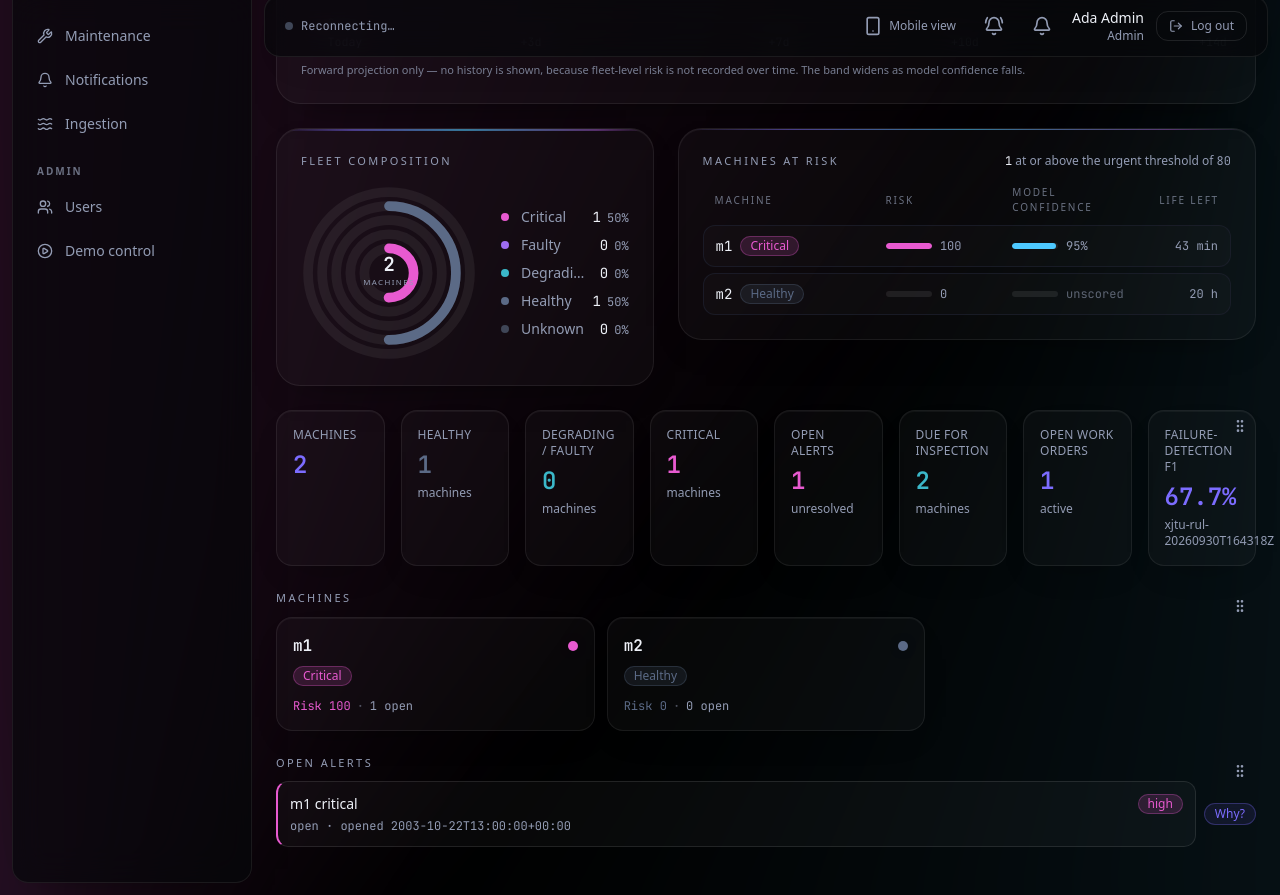
App › renders the dashboard for an authenticated admin and opens machine detail
(page scrolled)
Expected: the element named "kpi" is shown, [276,410,1256,566]
Expected: the text "Ada Admin" is shown, [1072,8,1144,28]
Step 1. Click the button "m1 Critical Risk 100 · 1 open" → (322,676), box [276,617,595,731]
(page scrolled)
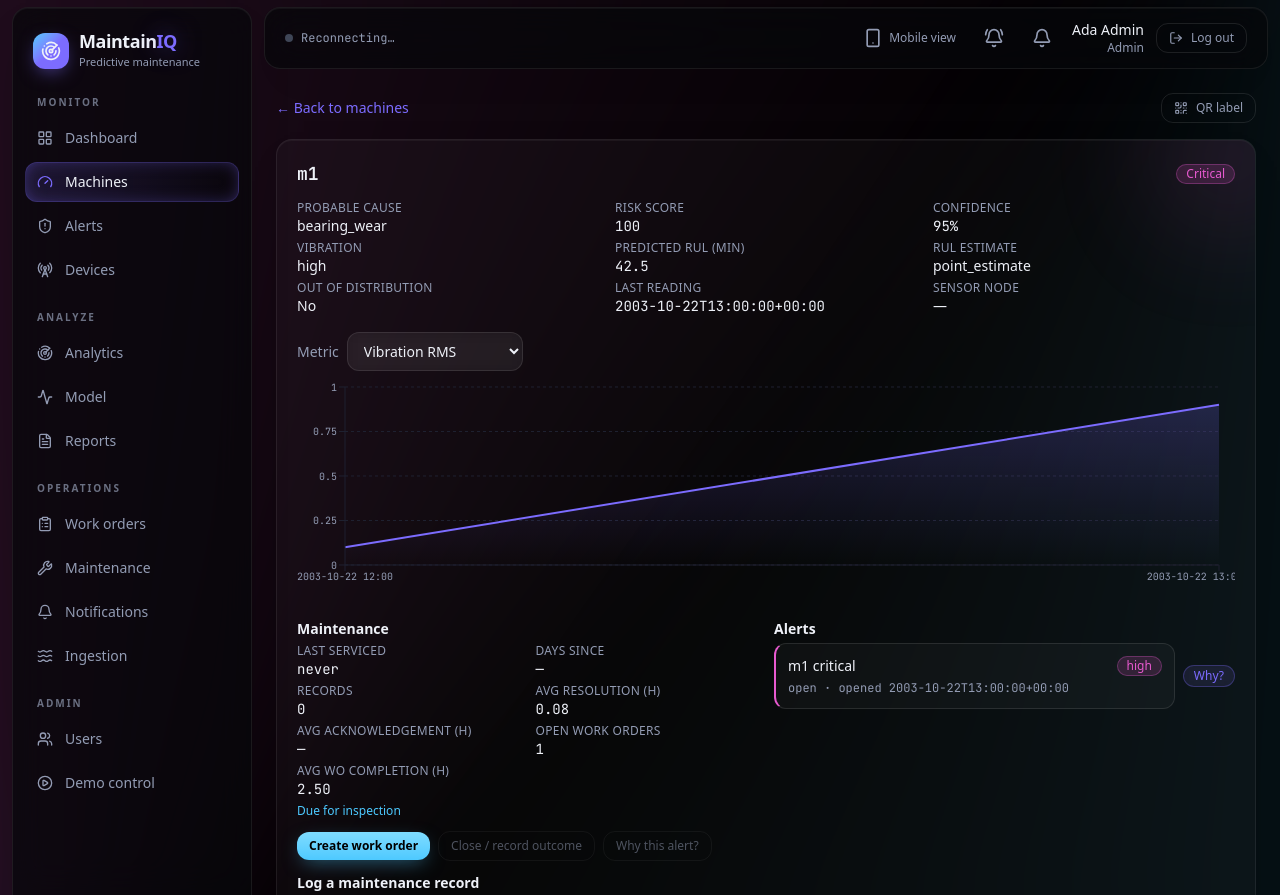
Expected: the heading "m1" is shown, [297,160,319,188]
Result: the text "bearing_wear" is shown at [297,216,387,235]
